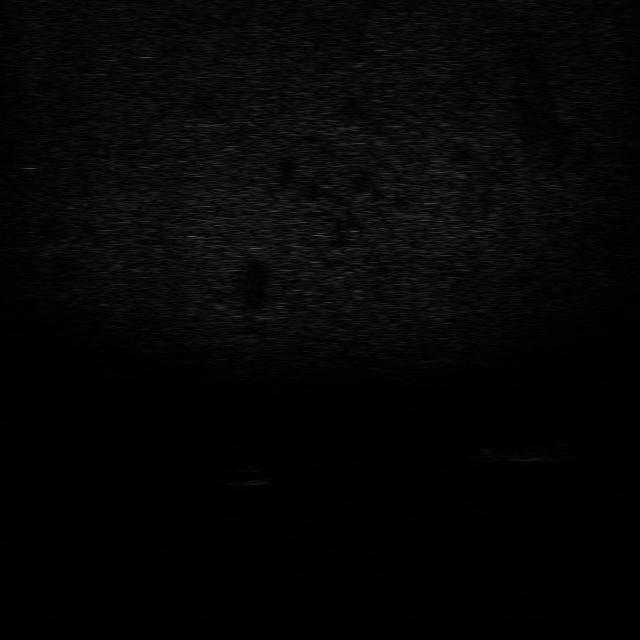ball: (222, 463, 272, 491)
human body: (473, 439, 578, 468)
